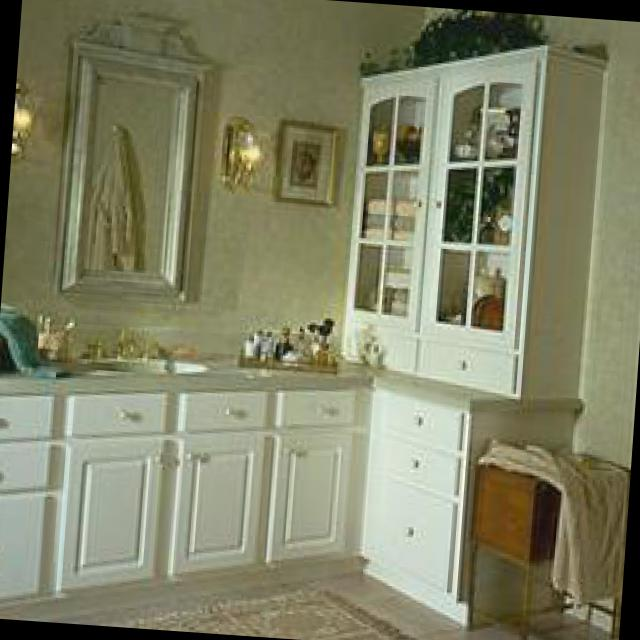bathrobe: (81, 125, 136, 266)
bottle crop: (273, 320, 297, 356)
bottles occluded: (300, 313, 332, 363), (353, 318, 382, 364)
bouquet: (27, 300, 80, 357)
boxes: (361, 195, 411, 236)
cabinets: (0, 383, 570, 606)
china cabinet: (338, 45, 604, 394)
clock crop: (491, 199, 509, 239)
counter: (0, 345, 508, 405)
counter bottom: (0, 320, 578, 406)
cup and saucer: (369, 125, 385, 164)
dish towels: (0, 298, 64, 376)
file organizer: (0, 381, 363, 607), (356, 389, 472, 597)
jars: (236, 323, 271, 352)
lamp crop: (215, 111, 262, 190), (11, 71, 37, 156)
mirror crop: (49, 5, 200, 296)
painting crop: (271, 119, 333, 200)
plant -x: (358, 6, 545, 70), (444, 165, 508, 236)
rug -partially obscured-: (44, 575, 420, 640)
sink basin: (69, 321, 207, 372), (79, 350, 204, 373)
sink occluded: (95, 326, 150, 357)
small table part: (462, 460, 614, 640)
towel basket: (476, 441, 621, 596), (0, 306, 69, 374)
tray occluded: (235, 352, 335, 369)
